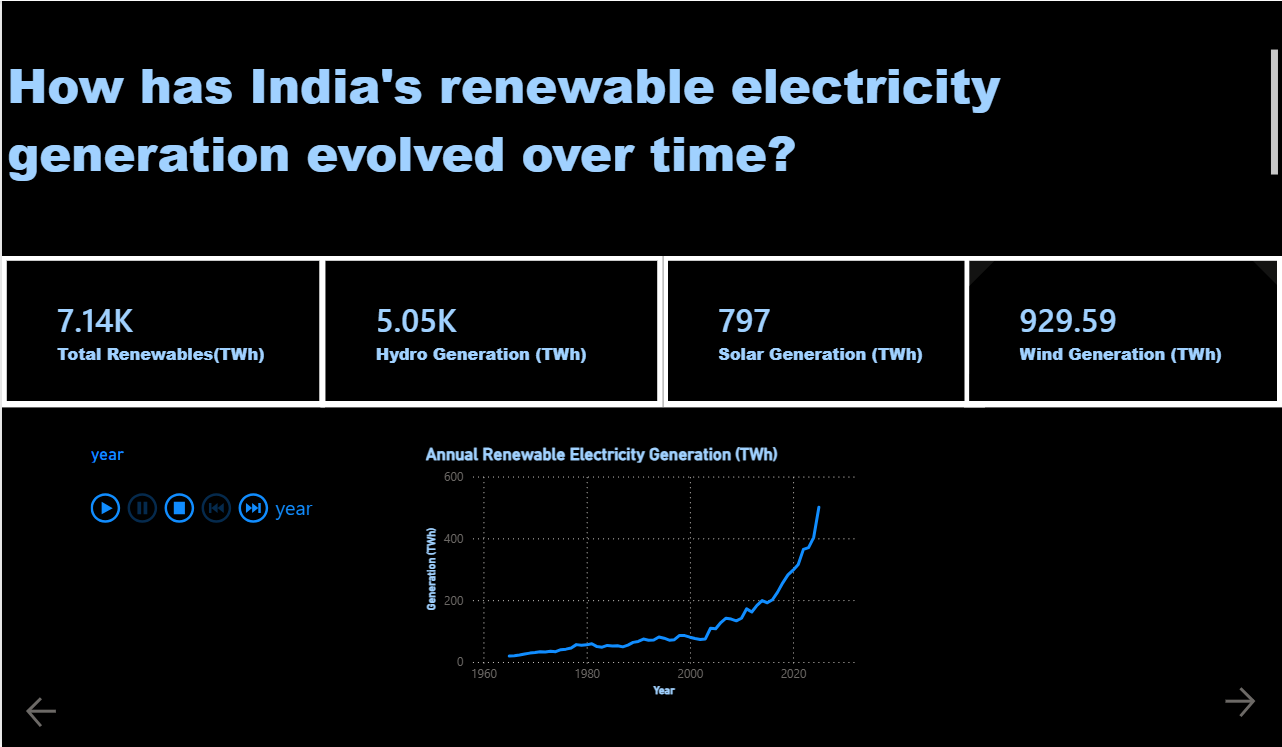

The dashboard page shown, as its layout file describes it:
{"tool":"powerbi","page":{"name":"TRAJECTORY","canvas":[1280,720],"ordinal":1},"visuals":[{"type":"cardVisual","fields":{"Data":["Sum(owid-energy-data.renewables_electricity)"]},"box":[0,229.2,322.1,150.8],"z":0},{"type":"cardVisual","fields":{"Data":["Sum(owid-energy-data.solar_electricity)"]},"box":[659.9,229.2,320.9,150.8],"z":1000},{"type":"cardVisual","fields":{"Data":["Sum(owid-energy-data.wind_electricity)"]},"box":[961.5,229.2,318.5,150.8],"z":2000},{"type":"cardVisual","fields":{"Data":["Sum(owid-energy-data.hydro_electricity)"]},"box":[318.5,229.2,341.4,150.8],"z":3000},{"type":"lineChart","title":"Annual Renewable Electricity Generation (TWh)","fields":{"Category":["owid-energy-data.year"],"Y":["Sum(owid-energy-data.renewables_electricity)"]},"box":[418.6,417.4,441.6,258.2],"z":4000},{"type":"textbox","box":[0,19.3,1280,148.4],"z":5000},{"type":"actionButton","box":[20.5,664.7,100.1,39.8],"z":6000},{"type":"actionButton","box":[1216.1,655.1,63.9,39.8],"z":7000},{"type":"PBI_CV_16948668_E17D_454B_8664_2F2C470EA8C1","fields":{"category":["owid-energy-data.year"]},"box":[83.2,417.4,238.9,109.8],"z":8000}]}

Visuals, with their boxes on the page's 1280x720 design canvas (x1, y1, x2, y2). These are canvas units, not pixel positions in the 1282x747 screenshot, which may show the page scaled, cropped or inside an application window:
cardVisual - Sum(owid-energy-data.renewables_electricity): (left=0, top=229, right=322, bottom=380)
cardVisual - Sum(owid-energy-data.solar_electricity): (left=660, top=229, right=981, bottom=380)
cardVisual - Sum(owid-energy-data.wind_electricity): (left=962, top=229, right=1280, bottom=380)
cardVisual - Sum(owid-energy-data.hydro_electricity): (left=318, top=229, right=660, bottom=380)
"Annual Renewable Electricity Generation (TWh)" lineChart: (left=419, top=417, right=860, bottom=676)
textbox: (left=0, top=19, right=1280, bottom=168)
actionButton: (left=20, top=665, right=121, bottom=704)
actionButton: (left=1216, top=655, right=1280, bottom=695)
PBI_CV_16948668_E17D_454B_8664_2F2C470EA8C1 - owid-energy-data.year: (left=83, top=417, right=322, bottom=527)
